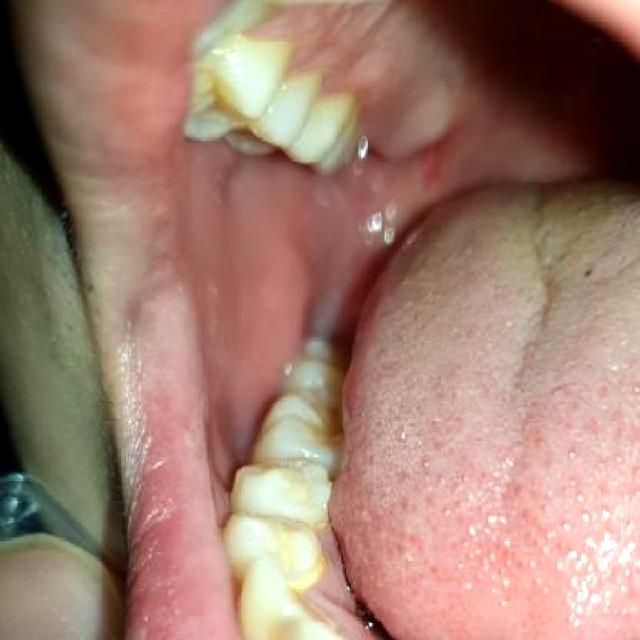Plaque: (336, 64, 385, 119), (297, 539, 332, 598)
